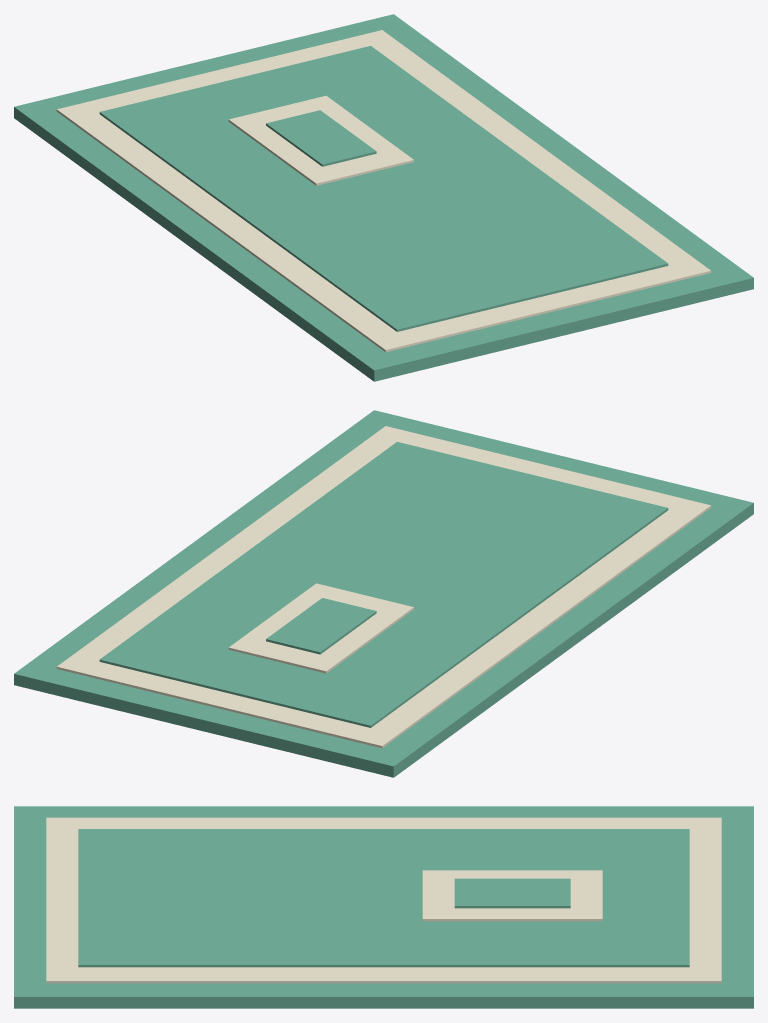
File: prayer-mat.glb
The picture shows the model from 3 angles, top to bottom: view 1: azimuth 30°, elevation 25°; view 2: azimuth 150°, elevation 25°; view 3: azimuth 270°, elevation 25°; orthographic projection. The views are drawn at different scales.
Visible parts, largest first — view 1: prayer-mat_Cube.002, prayer-mat_Cube, prayer-mat_Cube.001, prayer-mat_Cube.003, prayer-mat_Cube.004; view 2: prayer-mat_Cube.002, prayer-mat_Cube, prayer-mat_Cube.001, prayer-mat_Cube.003, prayer-mat_Cube.004; view 3: prayer-mat_Cube.002, prayer-mat_Cube, prayer-mat_Cube.001, prayer-mat_Cube.003, prayer-mat_Cube.004.
Part boxes in pixels (x1,y1,x2,y2): prayer-mat_Cube.002: (99, 46, 668, 331); prayer-mat_Cube: (14, 14, 753, 381); prayer-mat_Cube.001: (56, 30, 711, 352); prayer-mat_Cube.003: (228, 95, 413, 185); prayer-mat_Cube.004: (266, 110, 376, 166); prayer-mat_Cube.002: (99, 442, 668, 727); prayer-mat_Cube: (14, 410, 753, 777); prayer-mat_Cube.001: (56, 426, 711, 748); prayer-mat_Cube.003: (228, 583, 413, 673); prayer-mat_Cube.004: (266, 598, 376, 654); prayer-mat_Cube.002: (78, 829, 689, 967); prayer-mat_Cube: (14, 806, 753, 1008); prayer-mat_Cube.001: (46, 817, 721, 983); prayer-mat_Cube.003: (422, 870, 602, 921); prayer-mat_Cube.004: (454, 878, 570, 908).
Size of the model in its own units: 0.7 by 0.036 by 1.15.
